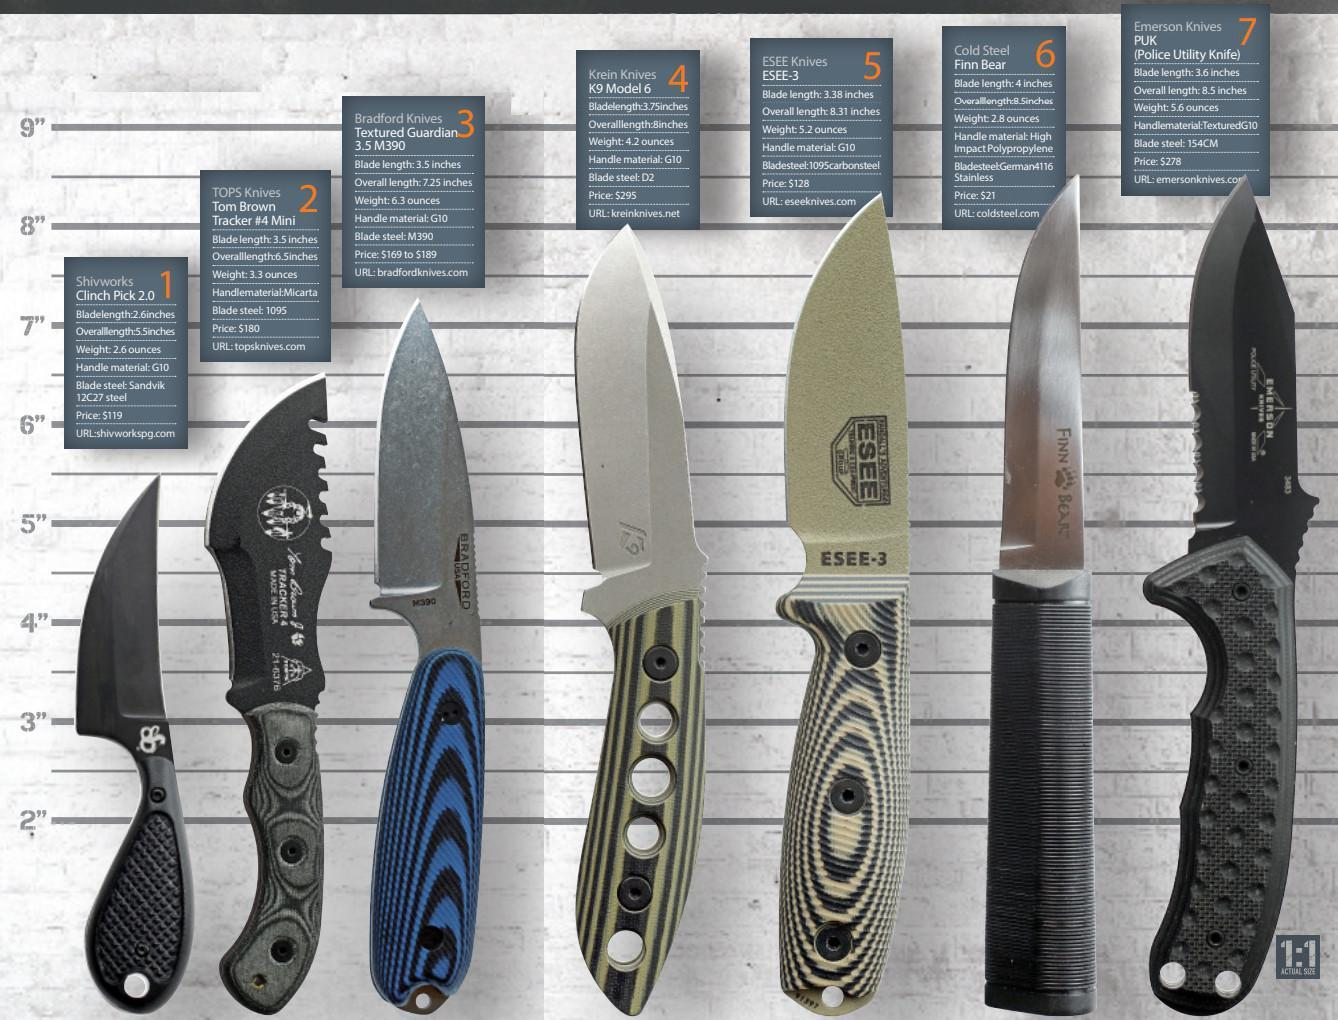faca: (1142, 190, 1318, 1015), (775, 198, 908, 1015), (575, 229, 706, 1014), (984, 182, 1095, 1015), (370, 303, 484, 1012), (206, 375, 331, 1014), (76, 478, 193, 1012)
